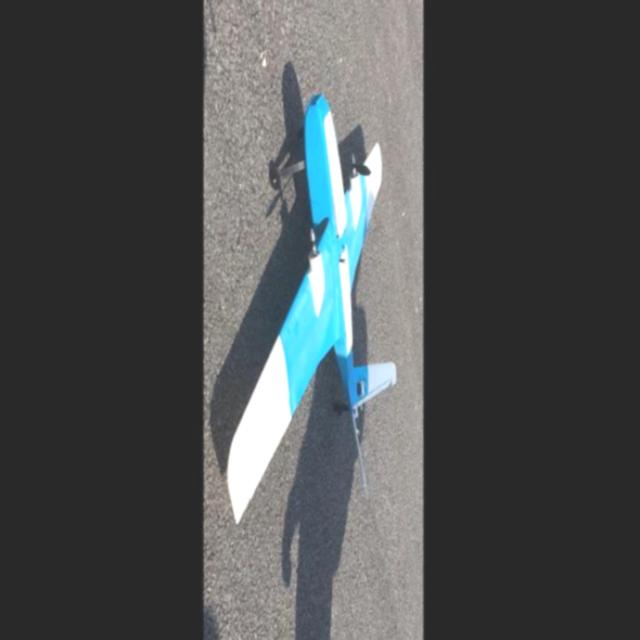plane: (224, 87, 398, 524)
